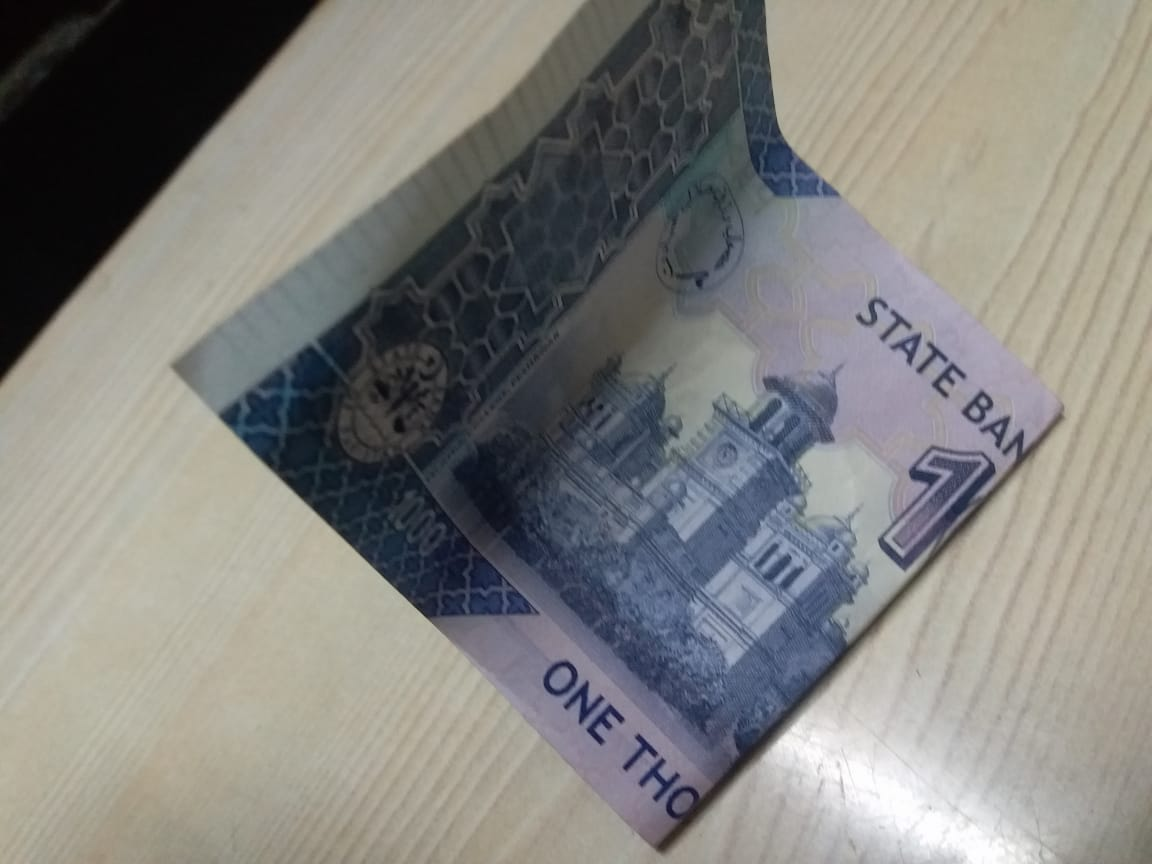1000 rupee: (140, 13, 1087, 853)
